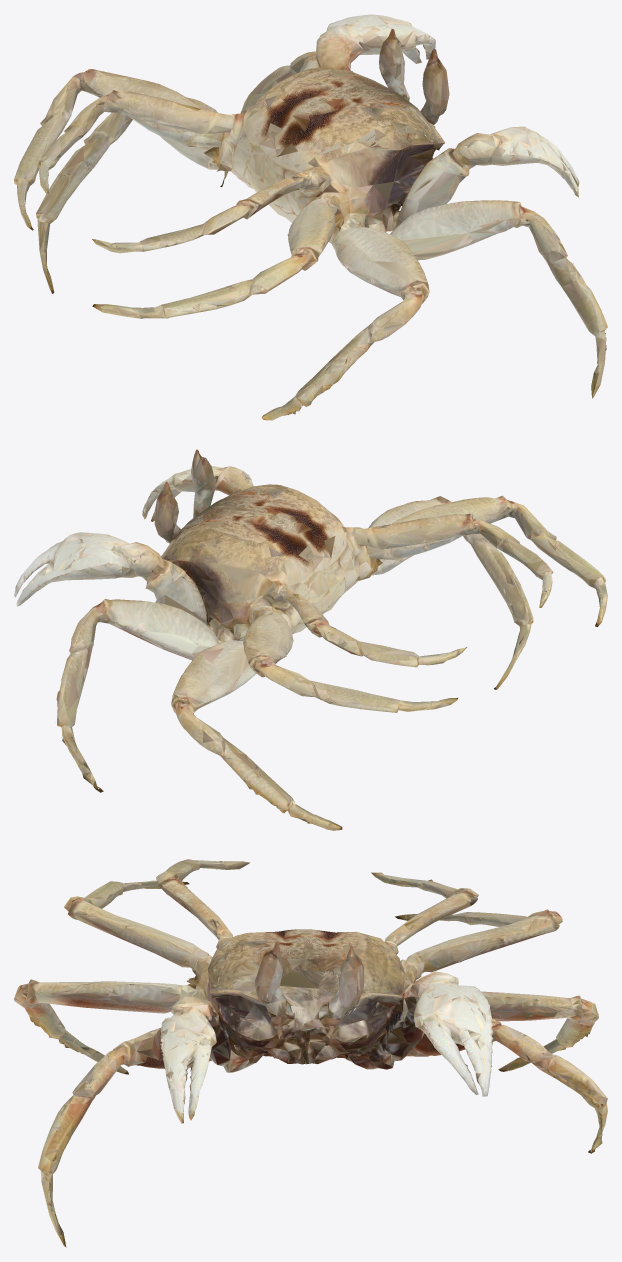
The model's file is crab.glb.
3 renders of one model, top to bottom at view 1: azimuth 30°, elevation 25°; view 2: azimuth 150°, elevation 25°; view 3: azimuth 270°, elevation 25°, orthographic. The views are drawn at different scales.
Visible parts, largest first — view 1: crab; view 2: crab; view 3: crab.
Part boxes in pixels (bbox=[...]): crab: bbox=[14, 14, 607, 420]; crab: bbox=[14, 449, 607, 830]; crab: bbox=[14, 859, 607, 1247].
Bounding box in the file's own units: 1 × 0.5558 × 1.06.
1 material, 1 textured.
